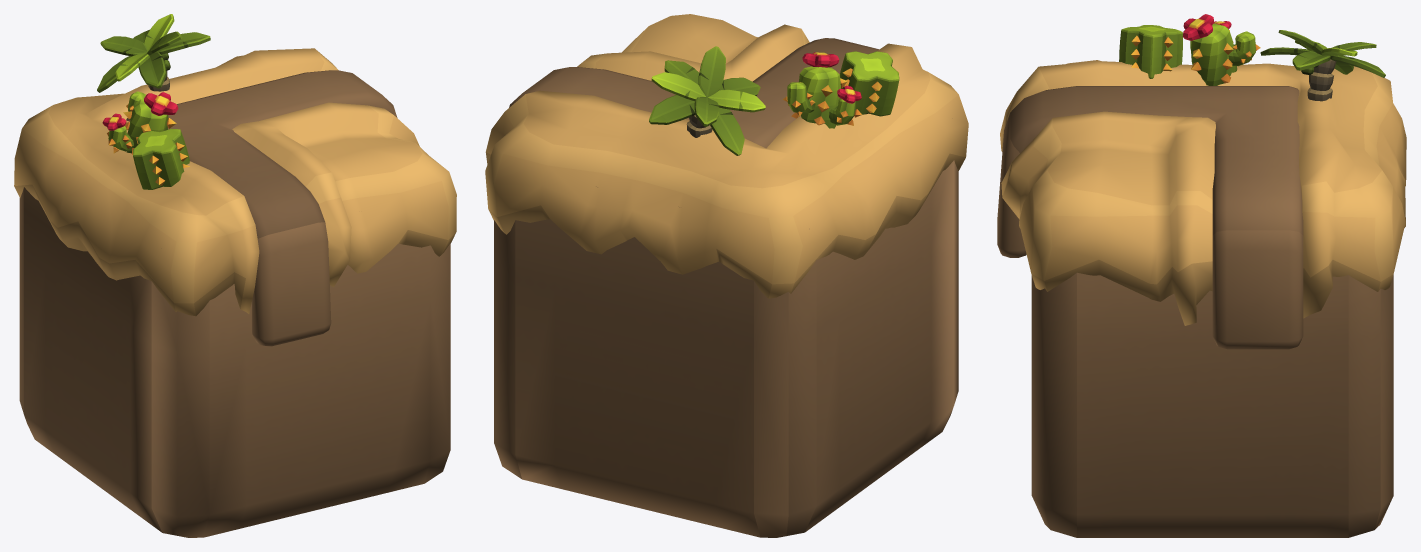
File: Desert11.fbx
3 renders of one model, left to right at view 1: azimuth 30°, elevation 25°; view 2: azimuth 150°, elevation 25°; view 3: azimuth 270°, elevation 25°, orthographic. The views are drawn at different scales.
Parts seen in each view (by area): view 1: Desert11, Desert_Cube11.001, Road11.003, Desert_Cube_11.002; view 2: Desert11, Desert_Cube11.001, Desert_Cube_11.002, Road11.003; view 3: Desert11, Desert_Cube11.001, Road11.003, Desert_Cube_11.002.
Part boxes in pixels (x1,y1,x2,y2): Desert11: [19, 187, 450, 537]; Desert_Cube11.001: [14, 48, 456, 316]; Road11.003: [126, 70, 397, 346]; Desert_Cube_11.002: [97, 14, 210, 189]; Desert11: [494, 118, 958, 537]; Desert_Cube11.001: [485, 14, 968, 298]; Desert_Cube_11.002: [649, 46, 899, 155]; Road11.003: [509, 38, 878, 148]; Desert11: [1031, 272, 1393, 537]; Desert_Cube11.001: [1000, 60, 1406, 325]; Road11.003: [997, 86, 1303, 349]; Desert_Cube_11.002: [1119, 14, 1385, 101].
Bounding box in the file's own units: 113 × 133 × 113.
